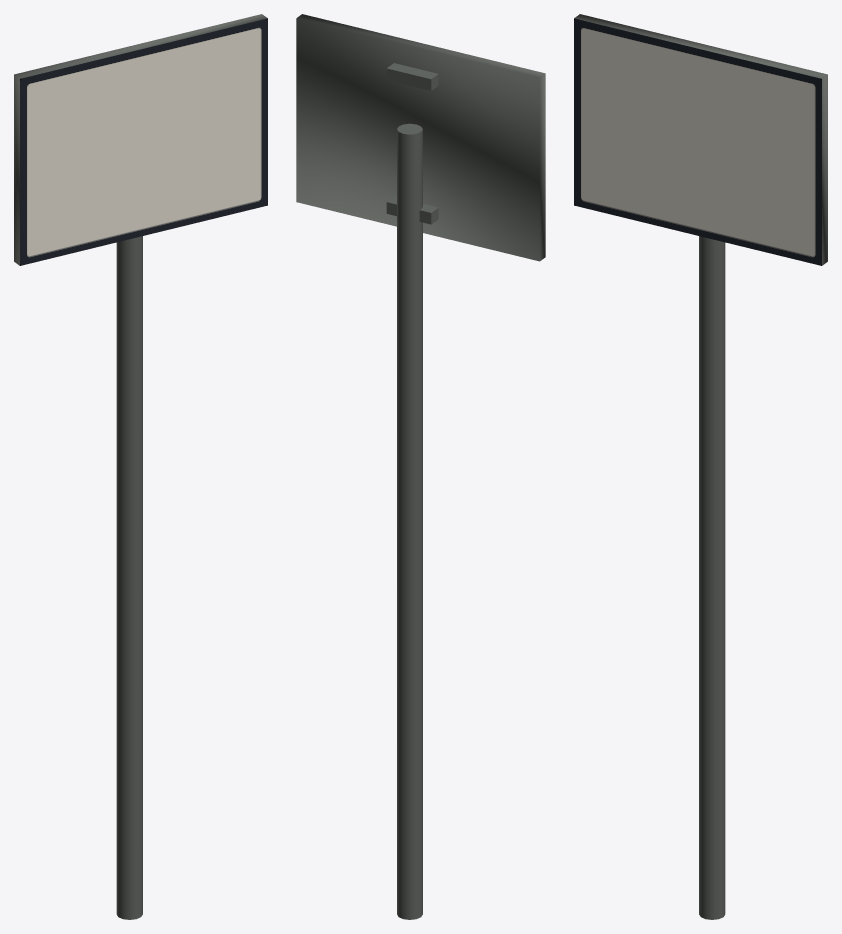
File: MS_SG_13_Blank.glb
The picture shows the model from 3 angles, left to right: view 1: azimuth 30°, elevation 25°; view 2: azimuth 150°, elevation 25°; view 3: azimuth 330°, elevation 25°; orthographic projection.
Parts seen in each view (by area): view 1: SignFace, _MeshInstance3D_86, _MeshInstance3D_88; view 2: _MeshInstance3D_88, _MeshInstance3D_86, _MeshInstance3D_90, _MeshInstance3D_89; view 3: SignFace, _MeshInstance3D_86, _MeshInstance3D_88.
Boxes of the visible parts, box(x1,y1,x2,y2) form: SignFace: box(20, 18, 267, 265); _MeshInstance3D_86: box(116, 236, 142, 919); _MeshInstance3D_88: box(14, 14, 267, 265); _MeshInstance3D_88: box(296, 14, 545, 261); _MeshInstance3D_86: box(397, 123, 422, 919); _MeshInstance3D_90: box(386, 63, 438, 90); _MeshInstance3D_89: box(386, 196, 438, 224); SignFace: box(574, 18, 821, 265); _MeshInstance3D_86: box(699, 236, 725, 919); _MeshInstance3D_88: box(574, 14, 827, 265).
Bounding box in the file's own units: 0.7625 × 2.57 × 0.111.
Materials: 2 (1 with a texture image).
